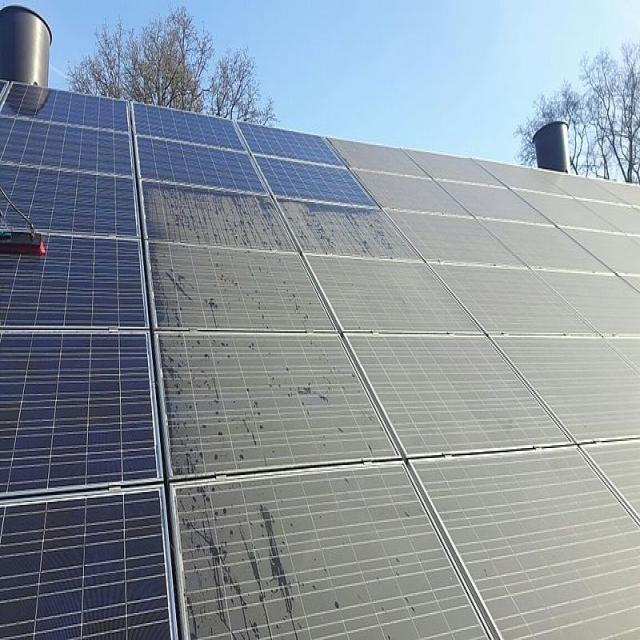faulty: (145, 132, 640, 638)
no faulty: (0, 80, 378, 636)
